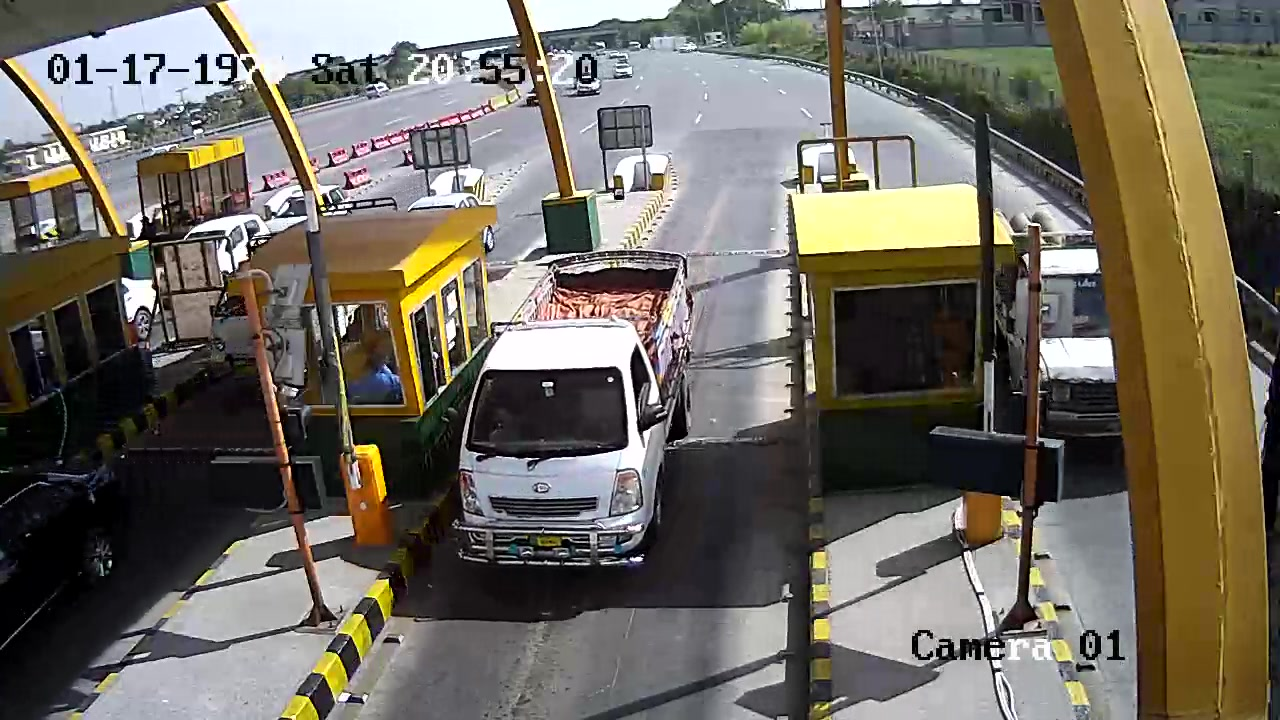F2: (451, 249, 707, 575)
